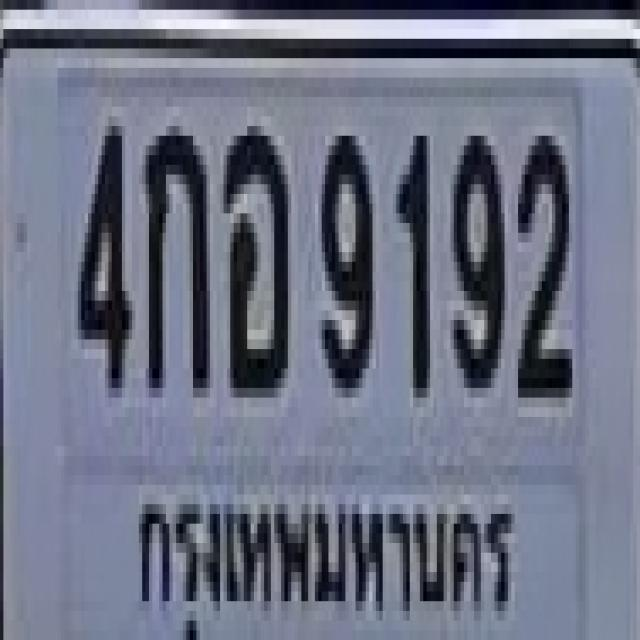-: (220, 116, 285, 388), (142, 116, 207, 388)
1: (392, 126, 427, 388)
2: (515, 126, 569, 388)
4: (74, 116, 128, 378)
9: (318, 126, 369, 378), (451, 126, 502, 378)
